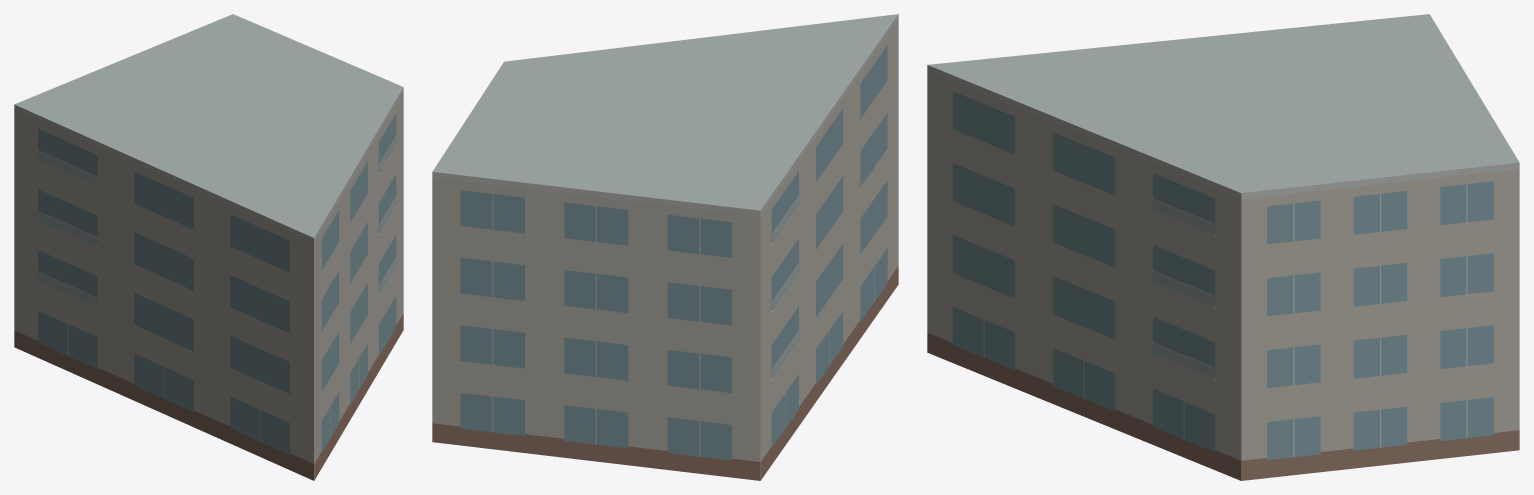
The model's file is survey-upis-32719720.glb.
3 views of the same model, side by side, from view 1: azimuth 30°, elevation 25°; view 2: azimuth 150°, elevation 25°; view 3: azimuth 270°, elevation 25° (orthographic). The views are drawn at different scales.
Visible parts, largest first — view 1: survey-upis-32719720.tmp; view 2: survey-upis-32719720.tmp; view 3: survey-upis-32719720.tmp.
Part boxes in pixels (box(x1,y1,x2,y2)): survey-upis-32719720.tmp: box(14, 14, 403, 480); survey-upis-32719720.tmp: box(432, 14, 898, 480); survey-upis-32719720.tmp: box(927, 14, 1519, 480).
Bounding box in the file's own units: 15.37 × 11.5 × 21.47.
